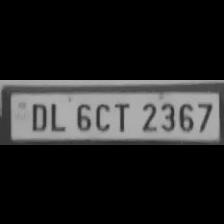2: (136, 98, 160, 132)
3: (158, 98, 176, 132)
6: (70, 99, 93, 131), (176, 100, 194, 132)
7: (194, 98, 214, 132)
C: (91, 99, 111, 131)
D: (26, 99, 48, 131)
L: (46, 99, 68, 131)
T: (110, 98, 134, 132)
